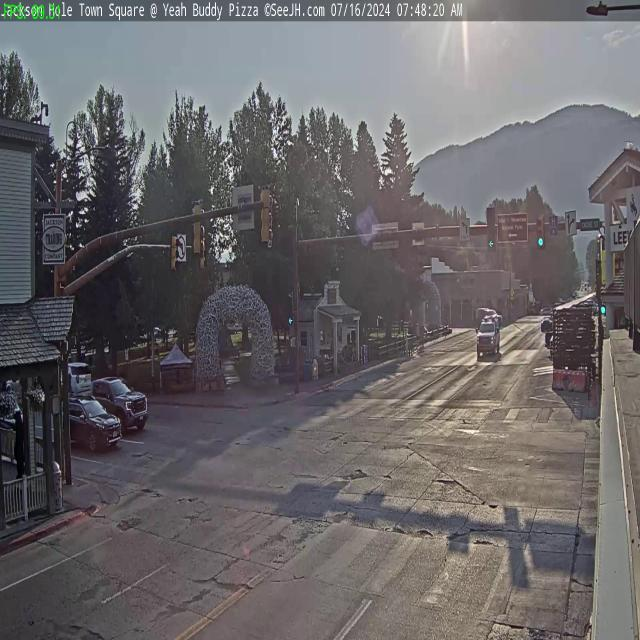pickup: (90, 375, 147, 433), (476, 320, 502, 358)
suv: (64, 395, 122, 453), (59, 360, 92, 399)
traffic light: (260, 182, 273, 245), (190, 199, 203, 256), (486, 207, 496, 249), (170, 235, 178, 272), (537, 214, 545, 248)
